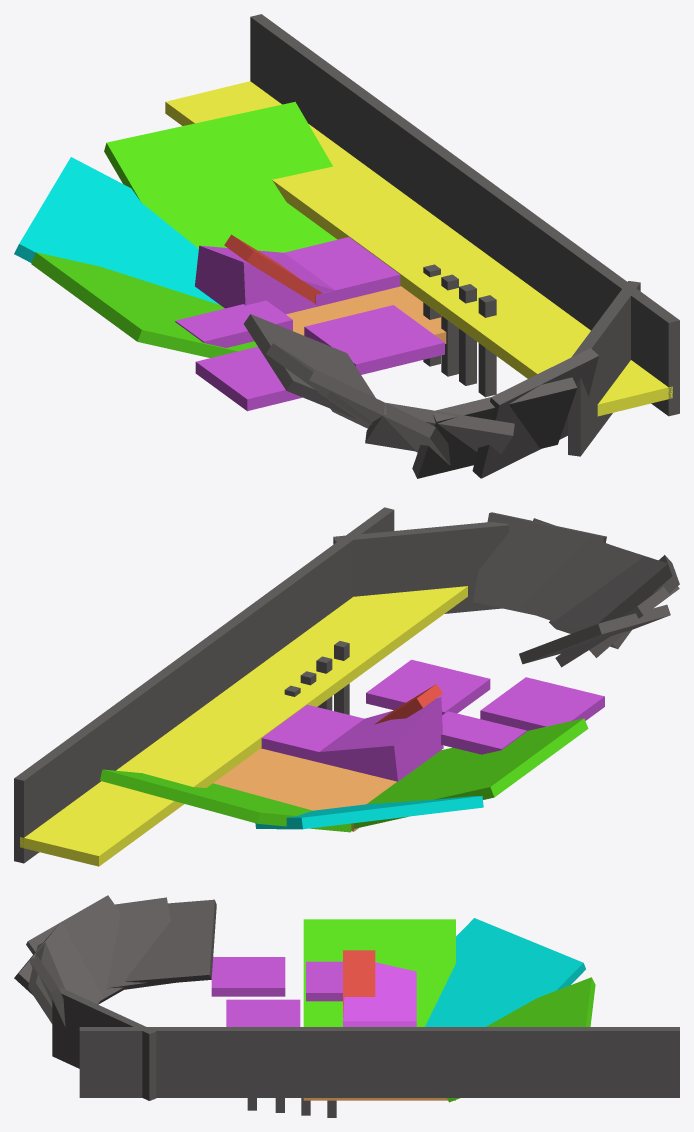
3 renders of one model, top to bottom at view 1: azimuth 30°, elevation 25°; view 2: azimuth 150°, elevation 25°; view 3: azimuth 270°, elevation 25°, orthographic. The views are drawn at different scales.
Parts seen in each view (by area): view 1: Cube.027, Cube.015, Cube.010, Cube.011, Cube.009, Cube.030, Cube.042, Cube.028, Cube.029, Cube.046, Cube.007, Cube.041 (+10 smaller); view 2: Cube.015, Cube.027, Cube.029, Cube.009, Cube.041, Cube.008, Cube.028, Cube.010, Cube.042, Cube.035, Cube.030, Cube.007 (+8 smaller); view 3: Cube.027, Cube.011, Cube.009, Cube.046, Cube.029, Cube.044, Cube.045, Cube.028, Cube.010, Cube.035, Cube.043, Cube.030 (+6 smaller).
Boxes of the visible parts, x1,y1,x2,y2 form: Cube.027: (250,14,679,416); Cube.015: (165,81,672,416); Cube.010: (104,101,336,252); Cube.011: (14,157,219,304); Cube.009: (31,252,257,357); Cube.030: (304,305,444,374); Cube.042: (412,377,577,478); Cube.028: (195,245,334,314); Cube.029: (568,281,640,456); Cube.046: (244,314,375,419); Cube.007: (284,237,400,306); Cube.041: (472,348,598,478); Cube.015: (20,586,467,866); Cube.027: (14,507,394,863); Cube.029: (333,522,508,613); Cube.009: (351,718,588,829); Cube.041: (473,512,606,615); Cube.008: (213,748,396,831); Cube.028: (319,697,443,781); Cube.010: (100,769,351,832); Cube.042: (519,518,643,621); Cube.035: (480,677,604,730); Cube.030: (366,659,490,715); Cube.007: (261,704,363,766); Cube.027: (79,1027,679,1097); Cube.011: (425,918,585,1026); Cube.009: (303,919,455,1026); Cube.046: (124,899,216,985); Cube.029: (52,987,156,1100); Cube.044: (26,895,123,1004); Cube.045: (107,897,175,989); Cube.028: (343,962,416,1021); Cube.010: (447,977,595,1102); Cube.035: (211,957,285,996); Cube.043: (14,922,102,1004); Cube.030: (226,999,300,1026).
Size of the model in its own units: 70.43 by 29.49 by 142.
